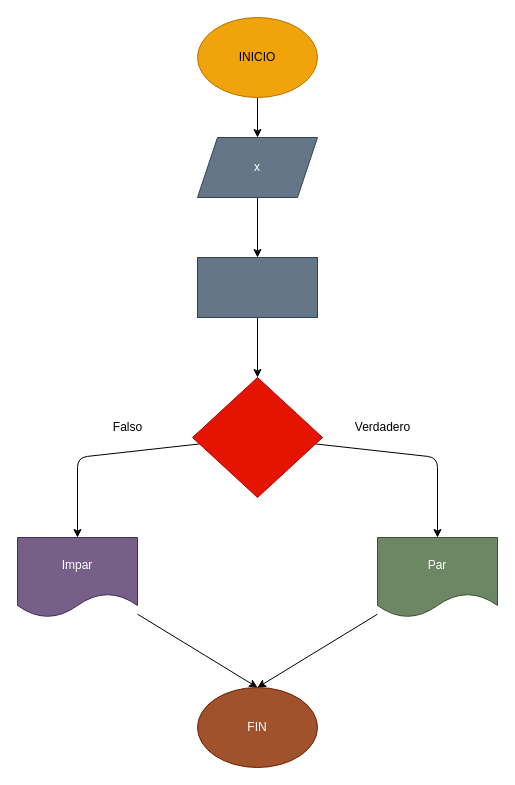
The diagram is 515 pixels wide and 785 high, and some of its shapes have lost their labels. Here are the shapes that lost their labels. From the top down, the box of each, then its label:
(196, 256, 318, 318): r = x%2
(192, 376, 322, 498): r == 0
